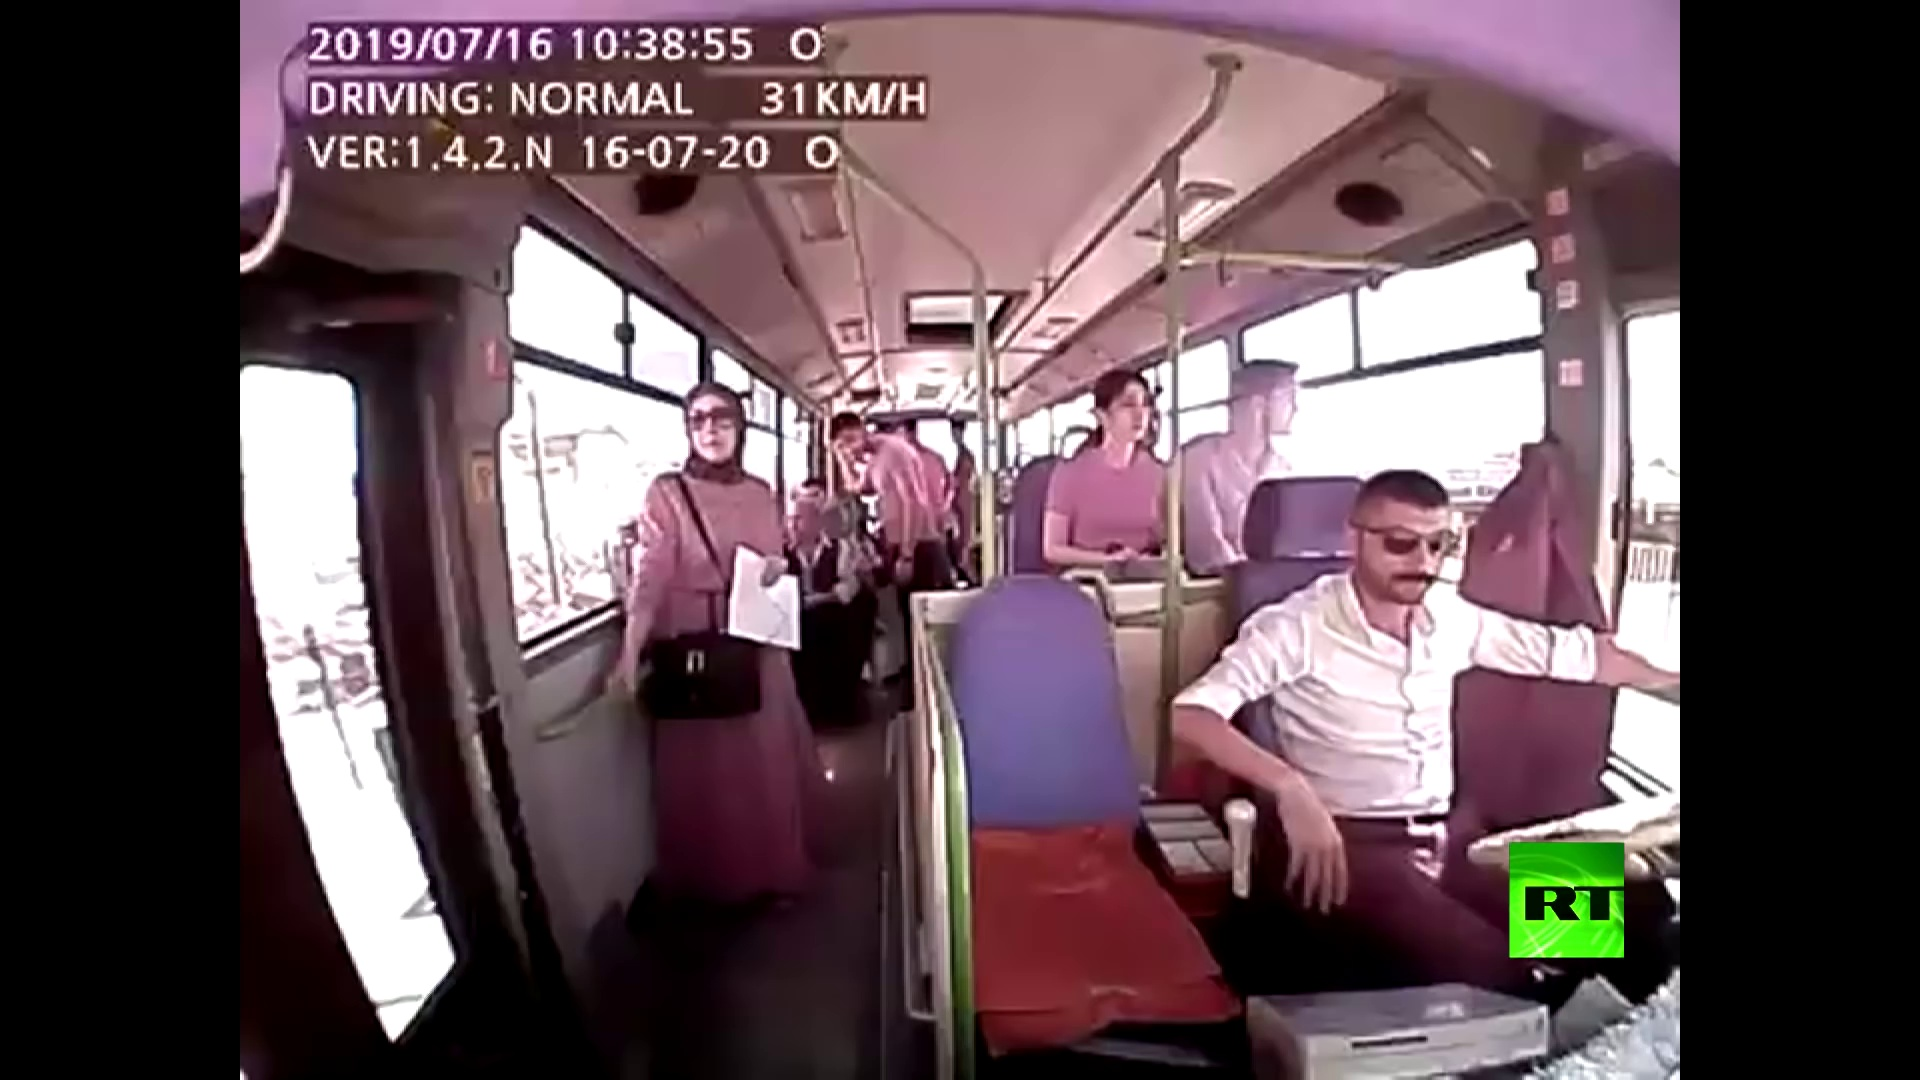face: (1381, 515, 1448, 603), (687, 396, 750, 456), (1110, 383, 1150, 440), (1269, 381, 1300, 437), (825, 425, 869, 463), (779, 502, 817, 544)
